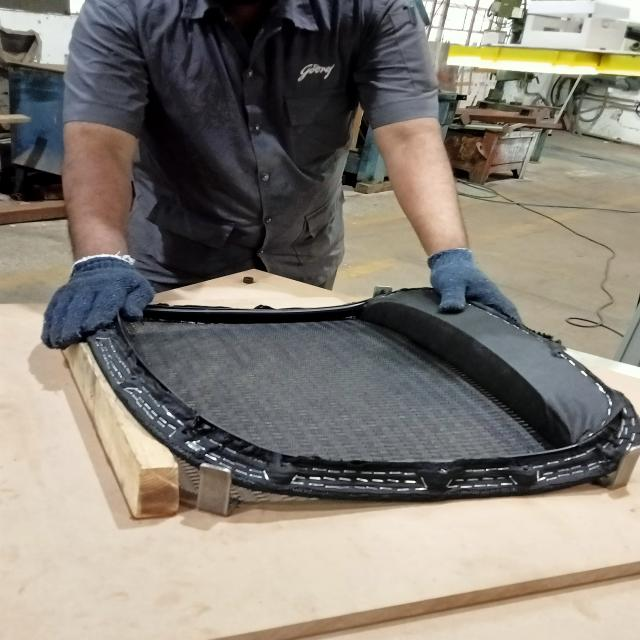Gloves-Detection: (37, 250, 151, 348), (414, 240, 518, 320)
